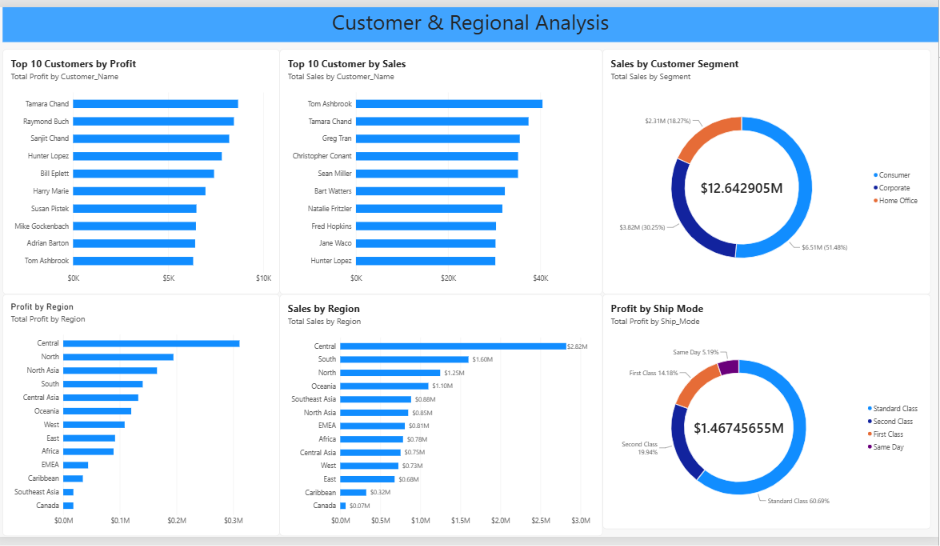

What the dashboard file says about the page in this screenshot:
{"tool":"powerbi","page":{"name":"Customer & Regional Analysis","canvas":[1920,1080],"ordinal":2},"visuals":[{"type":"textbox","box":[10.2,0,1910.2,71.4],"z":0},{"type":"clusteredBarChart","title":"Top 10 Customer by Sales","fields":{"Category":["SalesData.Customer_Name"],"Y":["SalesData.Total Sales"]},"box":[575.5,85.7,659.2,500],"z":1000},{"type":"donutChart","title":"Profit by Ship Mode","fields":{"Category":["SalesData.Ship_Mode"],"Y":["SalesData.Total Profit"]},"box":[1234.7,585.7,669.4,479.6],"z":2000},{"type":"clusteredBarChart","title":"Top 10 Customers by Profit","fields":{"Category":["SalesData.Customer_Name"],"Y":["SalesData.Total Profit"]},"box":[10.2,85.7,565.3,500],"z":3000},{"type":"donutChart","title":"Sales by Customer Segment","fields":{"Category":["SalesData.Segment"],"Y":["SalesData.Total Sales"]},"box":[1234.7,85.7,669.4,500],"z":4000},{"type":"clusteredBarChart","title":" Sales by Region","fields":{"Category":["SalesData.Region"],"Y":["SalesData.Total Sales"]},"box":[575.5,585.7,659.2,493.9],"z":5000},{"type":"clusteredBarChart","title":"Profit by Region ","fields":{"Category":["SalesData.Region"],"Y":["SalesData.Total Profit"]},"box":[10.2,585.7,565.3,493.9],"z":6000}]}

Visuals, with their boxes on the page's 1920x1080 design canvas (x1, y1, x2, y2). These are canvas units, not pixel positions in the 940x546 screenshot, which may show the page scaled, cropped or inside an application window:
textbox: bbox=(10, 0, 1920, 71)
"Top 10 Customer by Sales" clusteredBarChart: bbox=(576, 86, 1235, 586)
"Profit by Ship Mode" donutChart: bbox=(1235, 586, 1904, 1065)
"Top 10 Customers by Profit" clusteredBarChart: bbox=(10, 86, 576, 586)
"Sales by Customer Segment" donutChart: bbox=(1235, 86, 1904, 586)
" Sales by Region" clusteredBarChart: bbox=(576, 586, 1235, 1080)
"Profit by Region " clusteredBarChart: bbox=(10, 586, 576, 1080)
